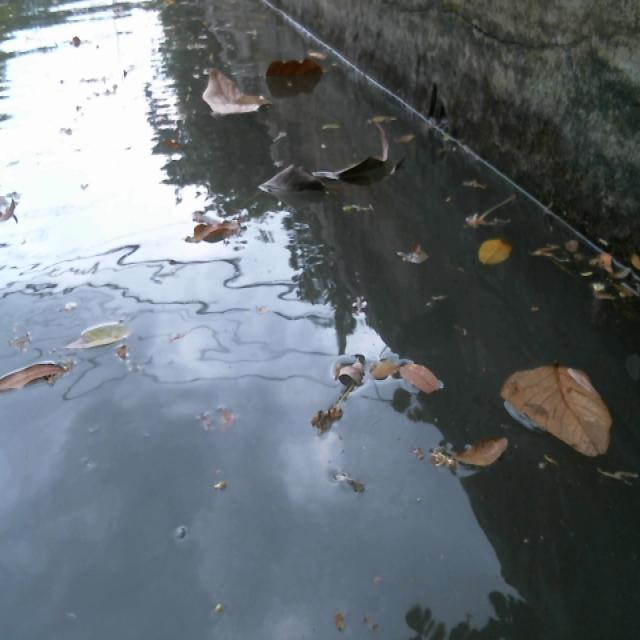Big-leaf: (257, 117, 396, 210), (508, 359, 618, 467), (202, 69, 267, 125), (185, 209, 246, 258), (258, 57, 326, 89)
Small-leaf: (445, 424, 515, 484), (66, 315, 138, 364), (406, 347, 463, 399), (0, 354, 64, 400), (477, 234, 515, 278), (368, 345, 406, 387), (401, 227, 428, 267), (454, 171, 489, 195), (625, 249, 640, 280), (302, 44, 320, 61), (597, 256, 614, 273)
